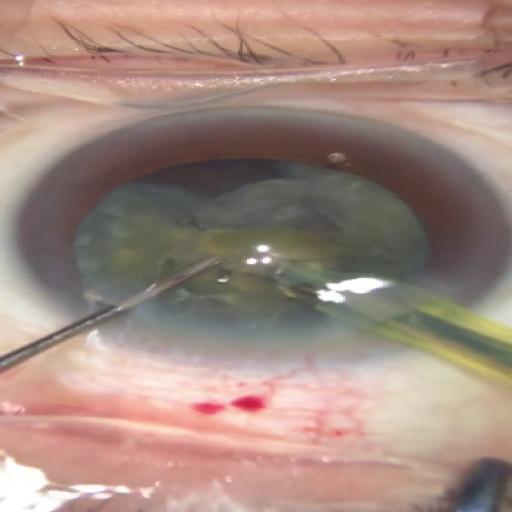catarata: (81, 163, 431, 352)
cornea: (15, 106, 510, 379)
pupil: (67, 162, 428, 365)
